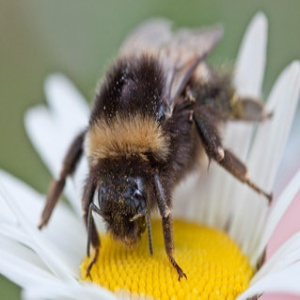bee: (38, 17, 276, 282)
